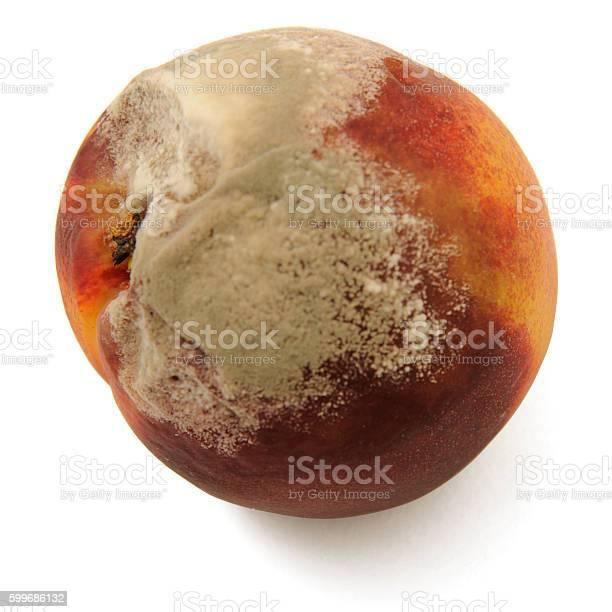Peach Rotten: (55, 28, 556, 517)
